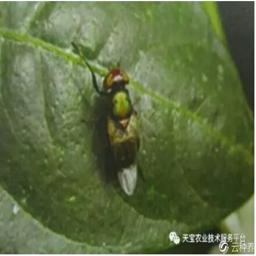liriomyza: (88, 58, 148, 196)
